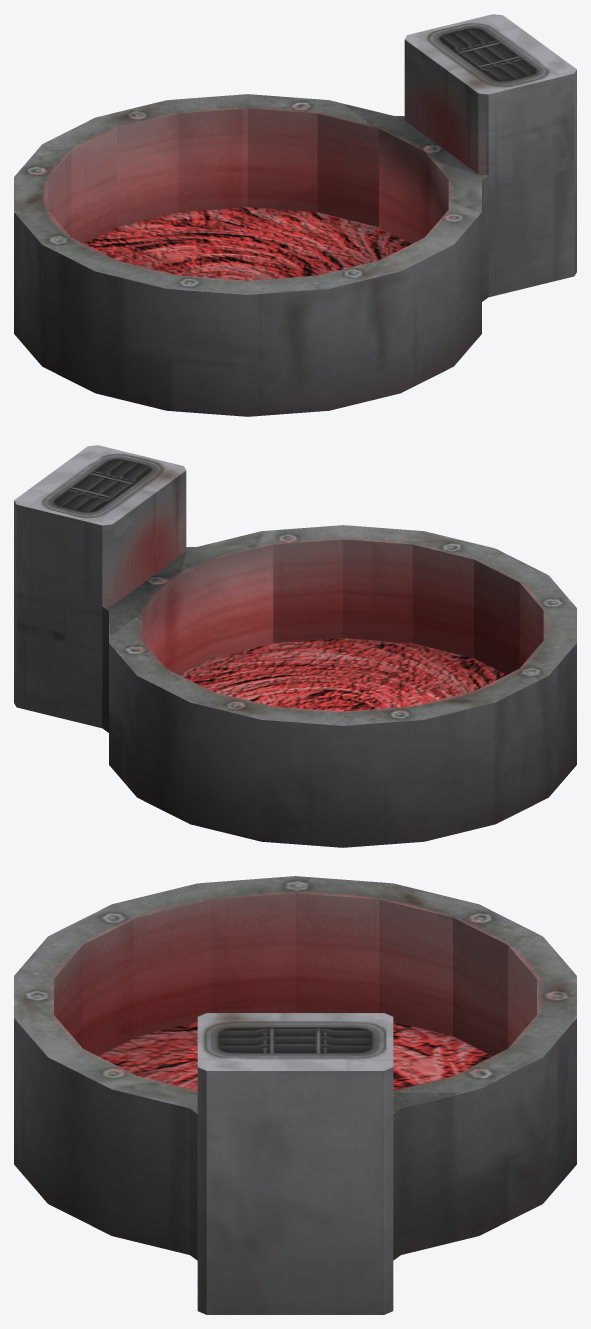
File: OBJ_NukeTub.FBX
3 views of the same model, one above another, from view 1: azimuth 30°, elevation 25°; view 2: azimuth 150°, elevation 25°; view 3: azimuth 270°, elevation 25° (orthographic). The views are drawn at different scales.
Parts seen in each view (by area): view 1: OBJ_NukeTub; view 2: OBJ_NukeTub; view 3: OBJ_NukeTub.
Part boxes in pixels (x1,y1,x2,y2): OBJ_NukeTub: (14, 14, 576, 416); OBJ_NukeTub: (14, 445, 576, 847); OBJ_NukeTub: (14, 876, 576, 1314).
Size of the model in its own units: 7.28 by 2.83 by 5.93.
1 material, 1 textured.
